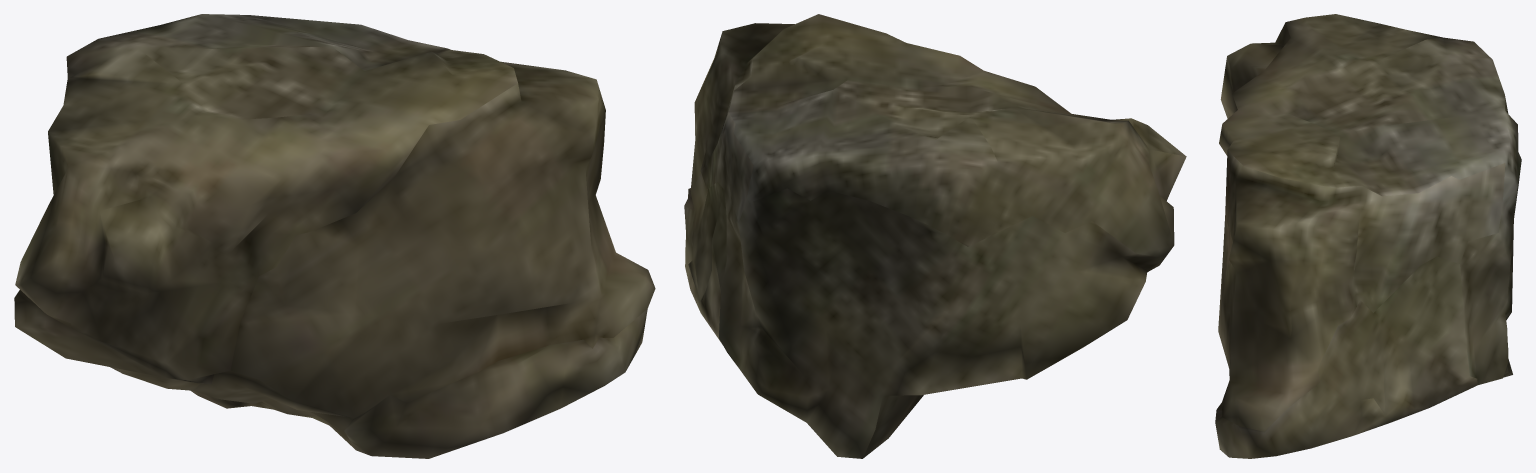
The model's file is rock_moss_set_02_rock13.glb.
3 views of the same model, side by side, from view 1: azimuth 30°, elevation 25°; view 2: azimuth 150°, elevation 25°; view 3: azimuth 270°, elevation 25° (orthographic). The views are drawn at different scales.
Parts seen in each view (by area): view 1: rock_moss_set_02_rock13; view 2: rock_moss_set_02_rock13; view 3: rock_moss_set_02_rock13.
Part boxes in pixels (bbox=[...]): rock_moss_set_02_rock13: bbox=[14, 14, 655, 458]; rock_moss_set_02_rock13: bbox=[684, 14, 1186, 458]; rock_moss_set_02_rock13: bbox=[1215, 14, 1521, 458].
Bounding box in the file's own units: 2.09 × 1.25 × 1.14.
1 material, 1 textured.
